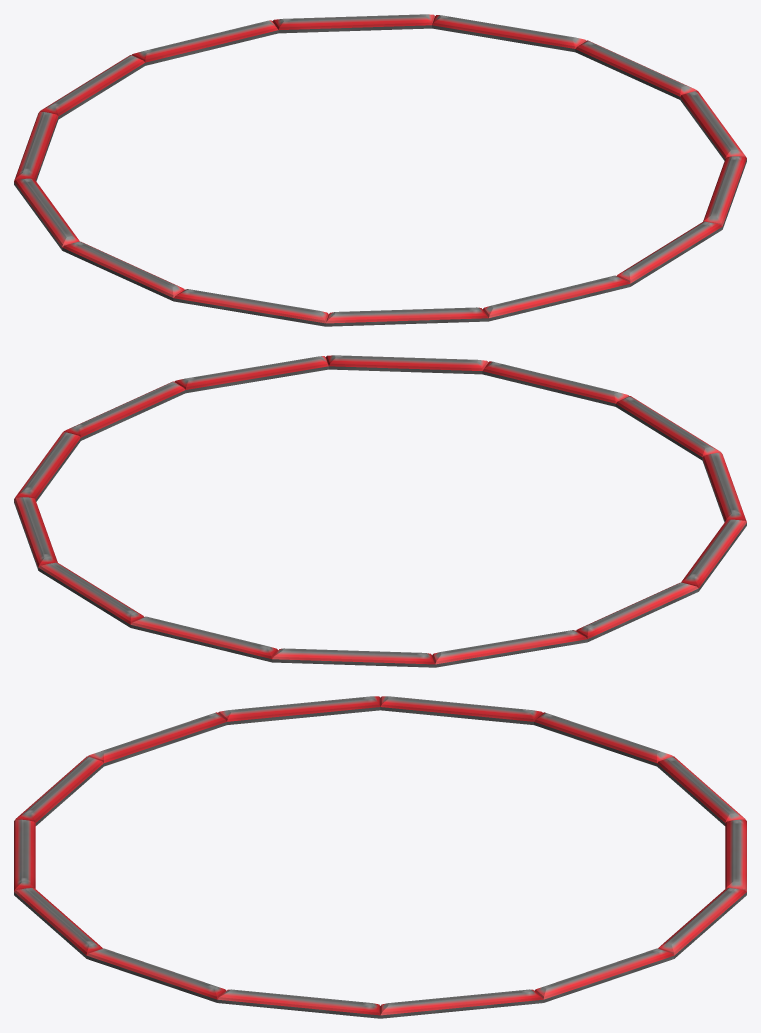
Rendered from LEDcircle_small.fbx.
3 views of the same model, one above another, from view 1: azimuth 30°, elevation 25°; view 2: azimuth 150°, elevation 25°; view 3: azimuth 270°, elevation 25° (orthographic). The views are drawn at different scales.
Parts seen in each view (by area): view 1: Tube; view 2: Tube; view 3: Tube.
Boxes of the visible parts, x1,y1,x2,y2 form: Tube: (14,14,746,326); Tube: (14,355,746,667); Tube: (14,696,746,1018).
Bounding box in the file's own units: 317 × 4.16 × 309.
Materials: 1 (1 with a texture image).
